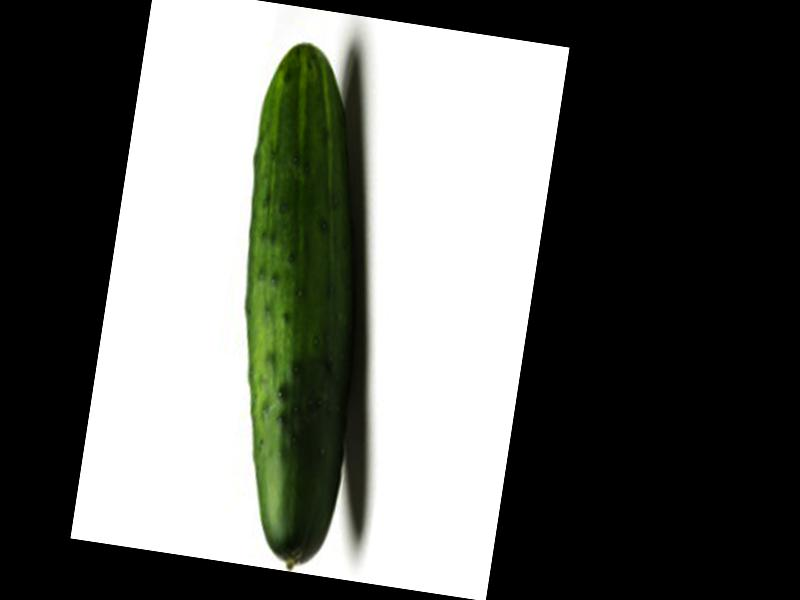Cucumber: (193, 40, 407, 575)
